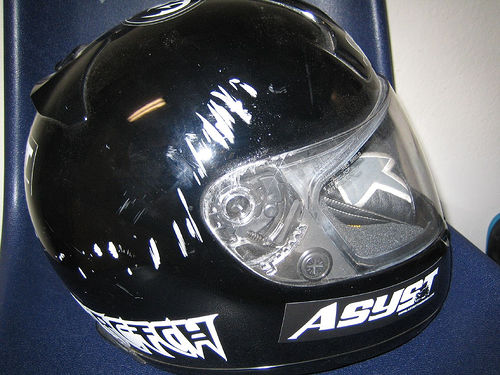helmet: (32, 31, 445, 338)
